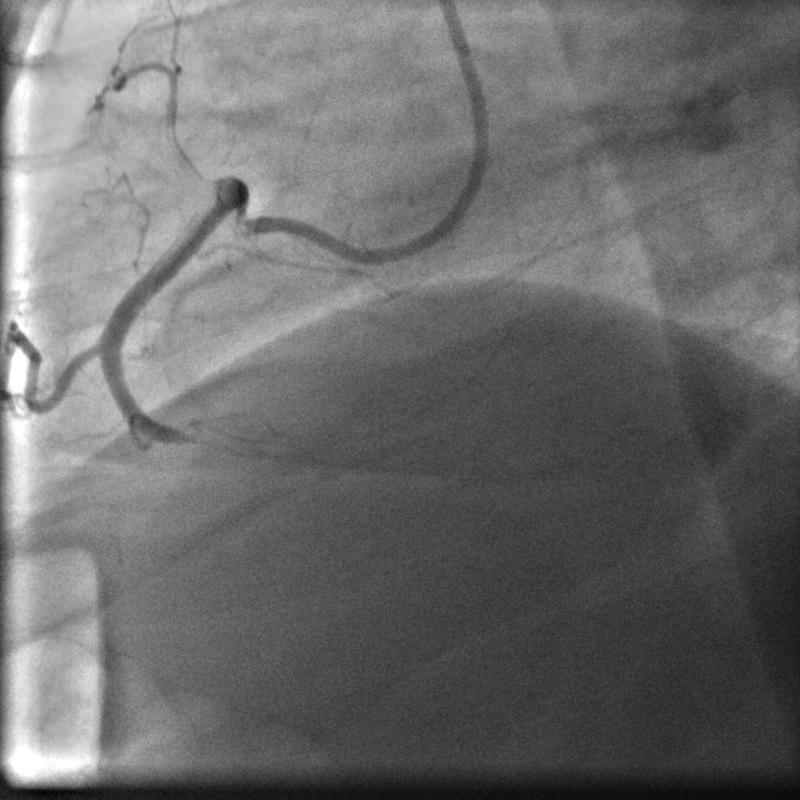Stenosis: (161, 421, 220, 451)
